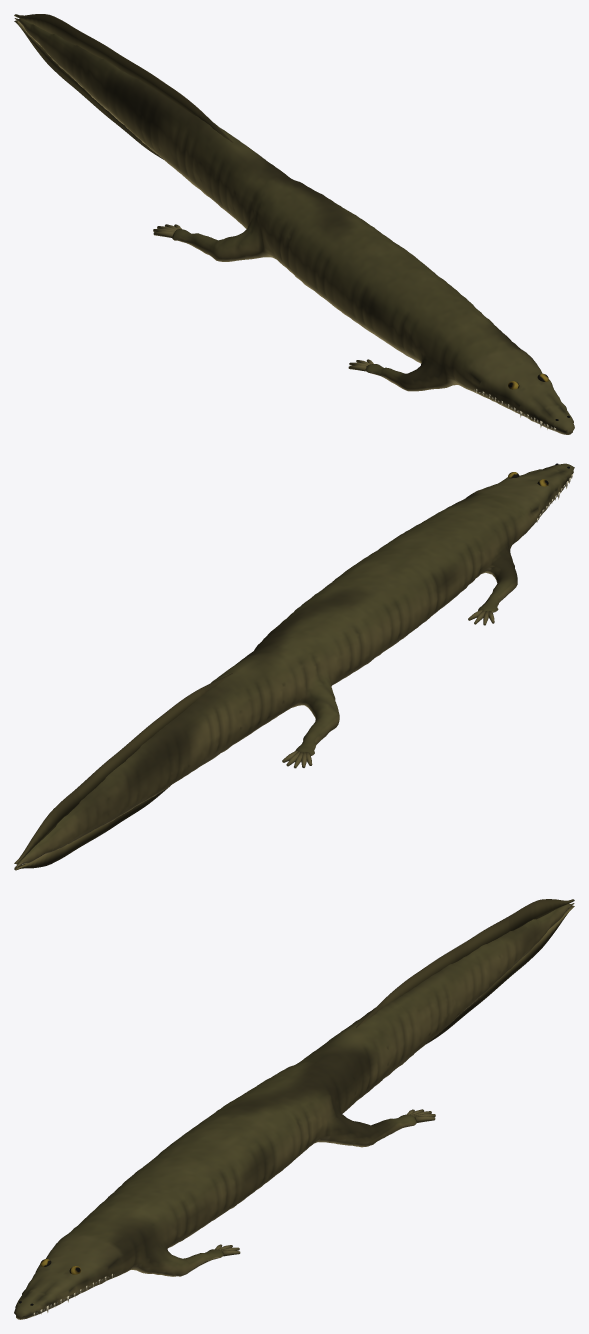
File: Eogyrinus.fbx
The picture shows the model from 3 angles, top to bottom: view 1: azimuth 30°, elevation 25°; view 2: azimuth 150°, elevation 25°; view 3: azimuth 330°, elevation 25°; orthographic projection.
Parts seen in each view (by area): view 1: Eogyrinus; view 2: Eogyrinus; view 3: Eogyrinus.
Boxes of the visible parts, x1,y1,x2,y2 form: Eogyrinus: (14,14,574,434); Eogyrinus: (14,463,574,870); Eogyrinus: (14,899,574,1319).
Bounding box in the file's own units: 0.331 × 0.1683 × 2.01.
